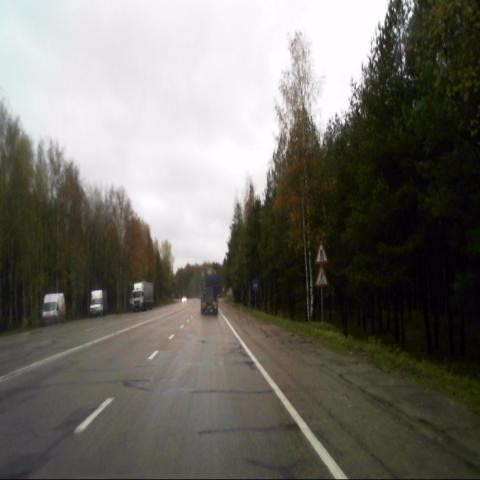1_20_2: (316, 240, 330, 263)
